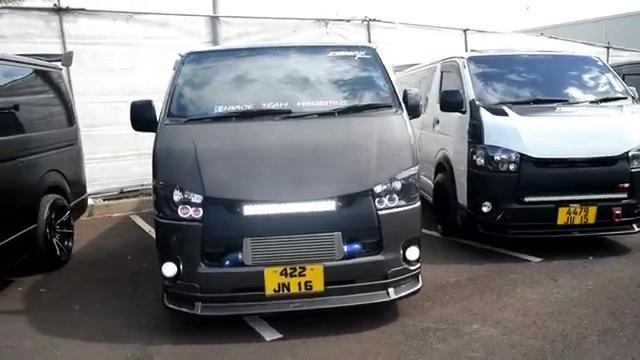Van: (137, 45, 434, 315), (397, 56, 639, 242)
